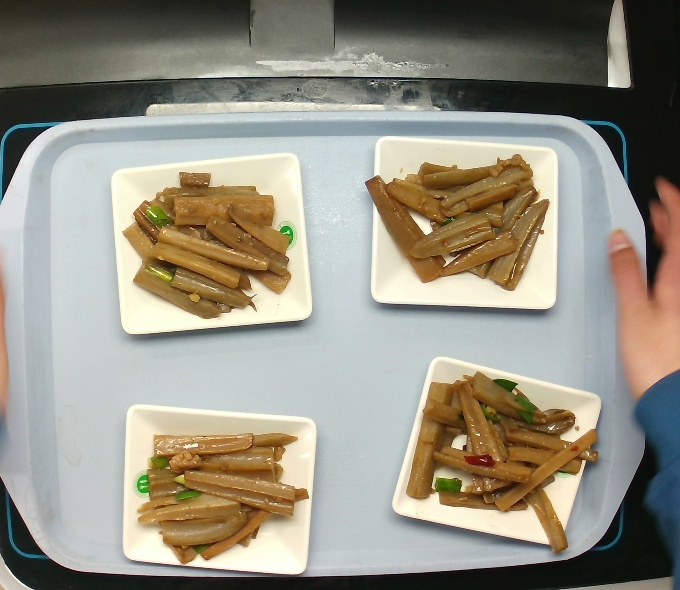wcq-QingChaoOuKuai: (408, 370, 596, 542), (361, 143, 558, 293), (113, 167, 300, 315), (130, 418, 311, 564)
